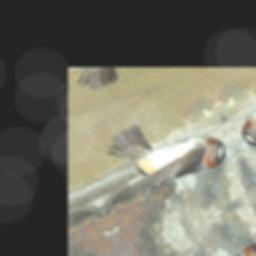Swallow: (84, 92, 231, 215)
